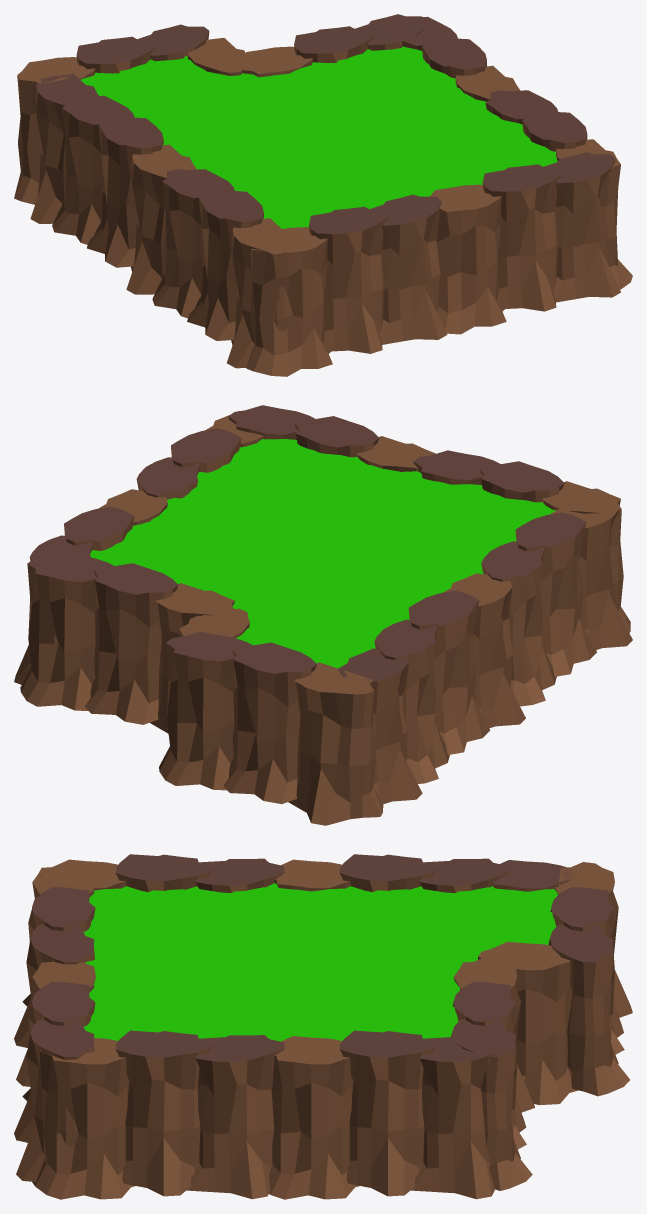
File: structure_cliff_3.fbx
3 renders of one model, top to bottom at view 1: azimuth 30°, elevation 25°; view 2: azimuth 150°, elevation 25°; view 3: azimuth 270°, elevation 25°, orthographic. The views are drawn at different scales.
Parts seen in each view (by area): view 1: cliff; view 2: cliff; view 3: cliff.
Boxes of the visible parts, box(x1,y1,x2,y2) form: cliff: box(14, 14, 632, 376); cliff: box(14, 405, 632, 825); cliff: box(14, 854, 632, 1199).
Bounding box in the file's own units: 1789 × 537 × 2141.
